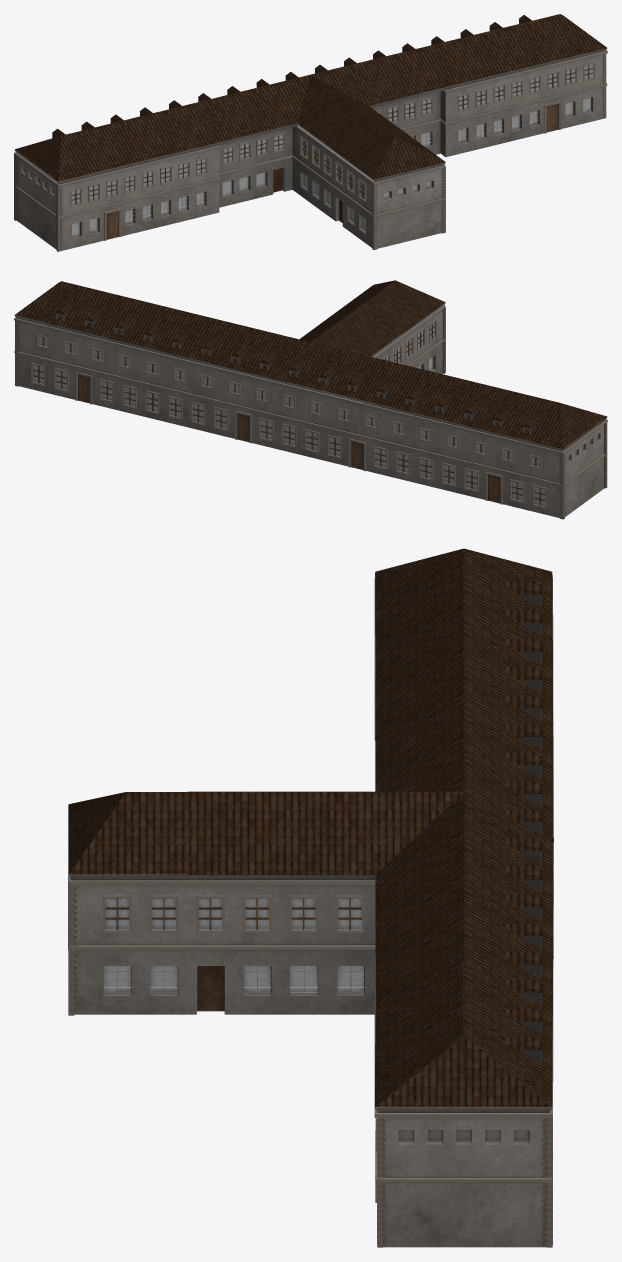
Rendered from PrimeraCasaPulimento_01 1.fbx.
3 renders of one model, top to bottom at view 1: azimuth 30°, elevation 25°; view 2: azimuth 150°, elevation 25°; view 3: azimuth 270°, elevation 25°, orthographic. The views are drawn at different scales.
Visible parts, largest first — view 1: Cube.002, Cube.018, Cube.019, Cube.020, Cube.016, Cube.026, Cube.017, Cube.001, Cube.004, Cube.027, SM_ParteGrande.001, Cube.029 (+4 smaller); view 2: Cube.002, Cube.005, Cube.006, Cube.014, SM_ParteGrande.001, Cube.017, Cube.004, Cube.001, Cube.022, Cube.024, Cube.020, Cube.023 (+8 smaller); view 3: Cube.002, Cube.020, Cube.017, SM_ParteGrande.001, Cube.028, Cube.004, Cube.001, SM_Torre.002, SM_Torre.001.
Boxes of the visible parts, <box> form: Cube.002: <box>14,14,607,184</box>; Cube.018: <box>60,54,603,250</box>; Cube.019: <box>219,91,440,207</box>; Cube.020: <box>292,127,372,247</box>; Cube.016: <box>376,168,442,248</box>; Cube.026: <box>70,62,594,206</box>; Cube.017: <box>16,157,56,248</box>; Cube.001: <box>15,83,607,219</box>; Cube.004: <box>14,50,607,186</box>; Cube.027: <box>222,97,432,164</box>; SM_ParteGrande.001: <box>52,15,531,138</box>; Cube.029: <box>104,101,561,240</box>; Cube.002: <box>14,280,607,451</box>; Cube.005: <box>18,321,560,483</box>; Cube.006: <box>18,354,560,517</box>; Cube.014: <box>36,334,541,469</box>; SM_ParteGrande.001: <box>56,302,537,435</box>; Cube.017: <box>25,320,604,516</box>; Cube.004: <box>14,305,607,454</box>; Cube.001: <box>14,338,605,486</box>; Cube.022: <box>99,379,228,430</box>; Cube.024: <box>373,446,478,492</box>; Cube.020: <box>302,309,443,391</box>; Cube.023: <box>259,418,341,458</box>; Cube.002: <box>68,548,553,1112</box>; Cube.020: <box>74,885,375,1014</box>; Cube.017: <box>383,1118,546,1247</box>; SM_ParteGrande.001: <box>501,582,542,1063</box>; Cube.028: <box>103,895,364,932</box>; Cube.004: <box>68,578,553,1117</box>; Cube.001: <box>68,876,552,1182</box>; SM_Torre.002: <box>377,1118,552,1247</box>; SM_Torre.001: <box>68,885,76,1015</box>.
Bounding box in the file's own units: 6143 × 1007 × 2351.
